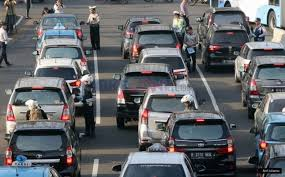plate: (191, 152, 211, 159), (272, 88, 284, 93), (223, 59, 233, 63)
